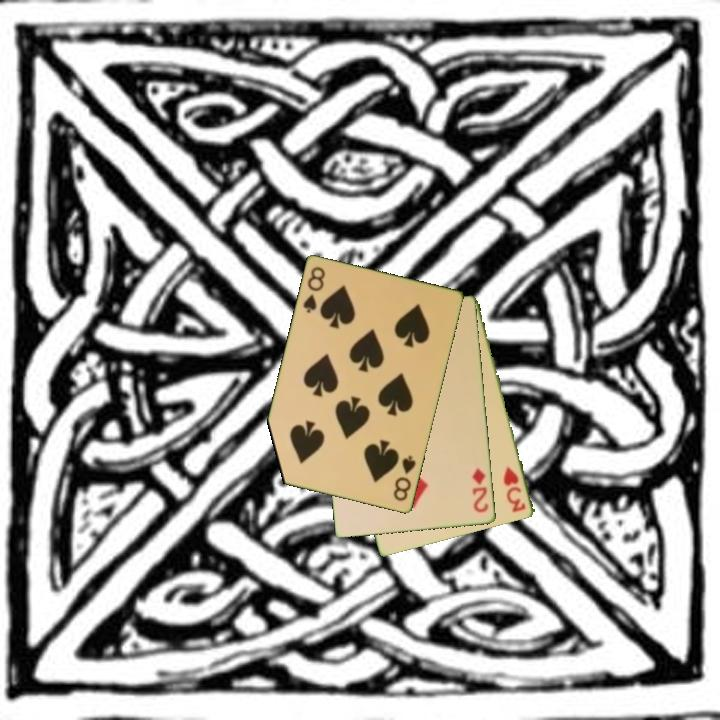2d: (469, 465, 492, 516)
3h: (500, 463, 529, 515)
8s: (390, 452, 419, 504), (300, 263, 328, 316)
